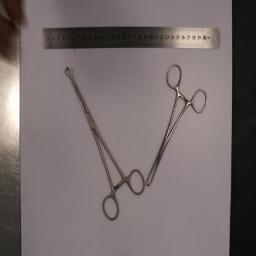Allis Tissue Forceps: (146, 62, 208, 186)
